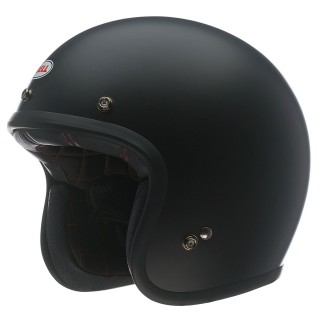with_helmet: (4, 13, 313, 297)
